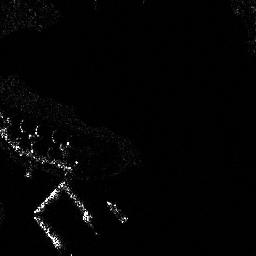ship: (105, 199, 129, 224)
